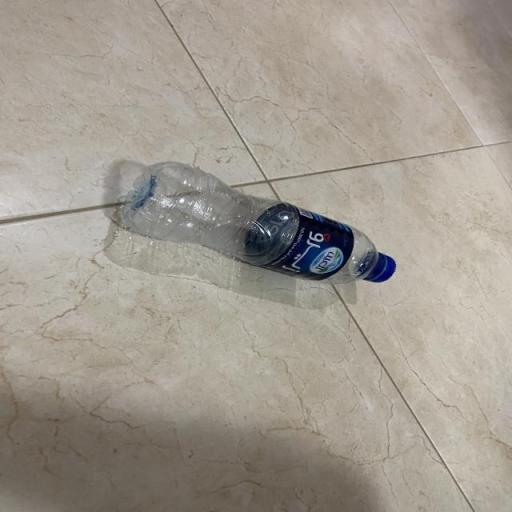plastic: (119, 158, 402, 291)
